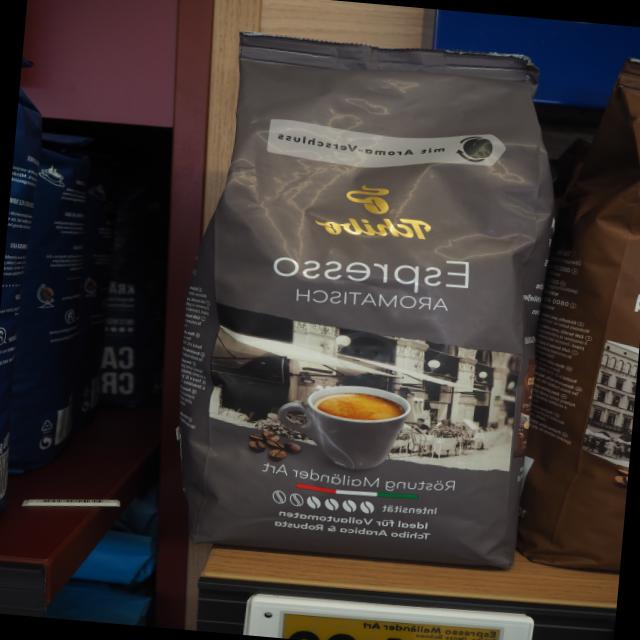Espresso Aromatisch: (152, 20, 577, 580)
